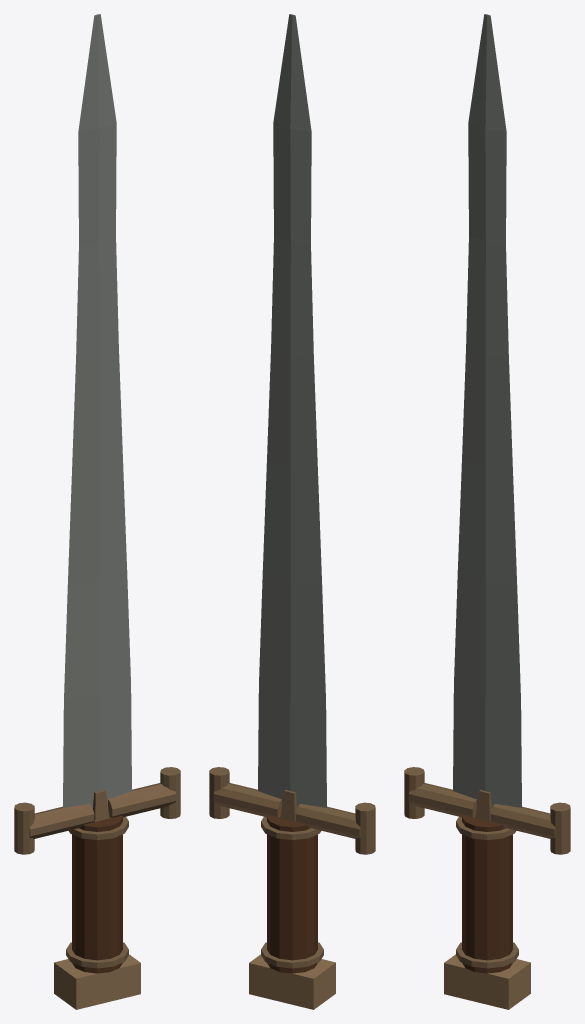
Rendered from meridia.glb.
3 views of the same model, side by side, from view 1: azimuth 30°, elevation 25°; view 2: azimuth 150°, elevation 25°; view 3: azimuth 330°, elevation 25° (orthographic).
Parts seen in each view (by area): view 1: Blade, Grip, Pommel, GuardArm00, GuardArm01, GuardArm03, GuardArm02, GripCollar01, GripCollar00, Guard; view 2: Blade, Grip, Pommel, GuardArm00, GuardArm01, GuardArm03, GuardArm02, GripCollar01, GripCollar00, Guard; view 3: Blade, Grip, Pommel, GuardArm01, GuardArm00, GuardArm02, GuardArm03, GripCollar01, GripCollar00, Guard.
Part boxes in pixels (bbox=[...]): Blade: bbox=[63, 14, 131, 807]; Grip: bbox=[72, 815, 122, 973]; Pommel: bbox=[54, 954, 140, 1009]; GuardArm00: bbox=[108, 783, 176, 817]; GuardArm01: bbox=[29, 804, 94, 838]; GuardArm03: bbox=[14, 802, 34, 854]; GuardArm02: bbox=[160, 767, 180, 818]; GripCollar01: bbox=[66, 942, 128, 968]; GripCollar00: bbox=[68, 816, 128, 840]; Guard: bbox=[92, 789, 109, 821]; Blade: bbox=[258, 14, 326, 807]; Grip: bbox=[267, 815, 317, 973]; Pommel: bbox=[249, 954, 335, 1009]; GuardArm00: bbox=[213, 783, 281, 817]; GuardArm01: bbox=[295, 804, 360, 838]; GuardArm03: bbox=[355, 802, 375, 854]; GuardArm02: bbox=[209, 767, 229, 818]; GripCollar01: bbox=[261, 942, 323, 968]; GripCollar00: bbox=[261, 816, 321, 840]; Guard: bbox=[280, 789, 297, 821]; Blade: bbox=[453, 14, 521, 807]; Grip: bbox=[462, 815, 512, 973]; Pommel: bbox=[444, 954, 530, 1009]; GuardArm01: bbox=[408, 783, 476, 817]; GuardArm00: bbox=[490, 804, 555, 838]; GuardArm02: bbox=[550, 802, 570, 854]; GuardArm03: bbox=[404, 767, 424, 818]; GripCollar01: bbox=[456, 942, 518, 968]; GripCollar00: bbox=[456, 816, 516, 840]; Guard: bbox=[475, 789, 492, 821].
Size of the model in its own units: 0.181 by 1.04 by 0.0605.
